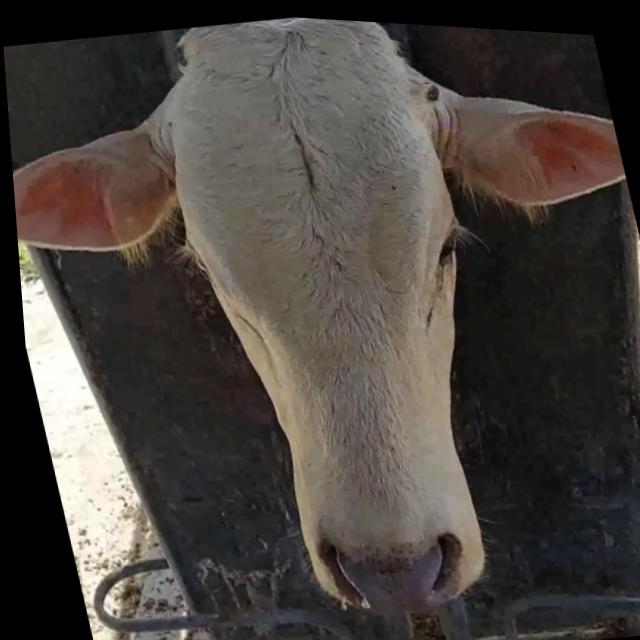cowFace: (138, 6, 536, 627)
